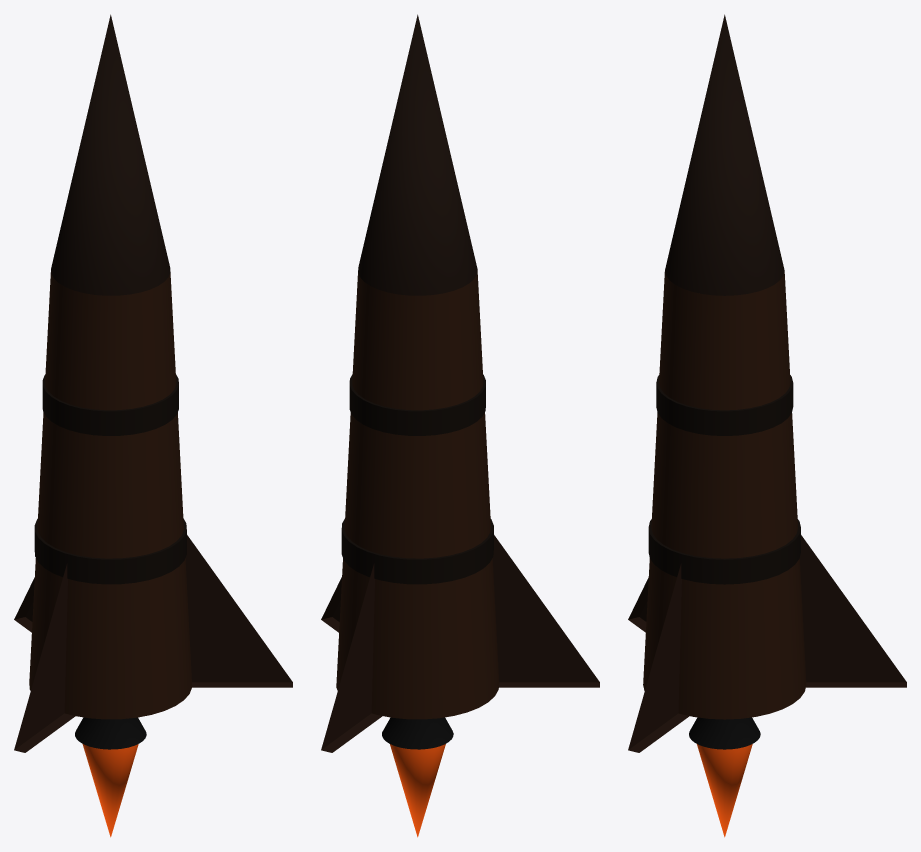
Rendered from Rocket_01_WoodenDart.obj.
The picture shows the model from 3 angles, left to right: view 1: azimuth 30°, elevation 25°; view 2: azimuth 150°, elevation 25°; view 3: azimuth 270°, elevation 25°; orthographic projection.
Visible parts, largest first — view 1: R01_Body, R01_Nose, R01_Fin_3, R01_Fin_2, R01_Band_1, R01_Band_2, R01_Flame_1, R01_Nozzle_1, R01_Fin_1; view 2: R01_Body, R01_Nose, R01_Fin_2, R01_Fin_1, R01_Band_1, R01_Band_2, R01_Flame_1, R01_Nozzle_1, R01_Fin_3; view 3: R01_Body, R01_Nose, R01_Fin_1, R01_Fin_3, R01_Band_1, R01_Band_2, R01_Flame_1, R01_Nozzle_1, R01_Fin_2.
Boxes of the visible parts, bbox=[...] form: R01_Body: bbox=[29, 271, 192, 719]; R01_Nose: bbox=[51, 14, 170, 295]; R01_Fin_3: bbox=[185, 535, 292, 687]; R01_Fin_2: bbox=[14, 563, 75, 752]; R01_Band_1: bbox=[34, 518, 186, 584]; R01_Band_2: bbox=[42, 374, 178, 435]; R01_Flame_1: bbox=[82, 744, 138, 837]; R01_Nozzle_1: bbox=[75, 717, 146, 749]; R01_Fin_1: bbox=[14, 578, 34, 632]; R01_Body: bbox=[336, 269, 499, 719]; R01_Nose: bbox=[358, 14, 477, 295]; R01_Fin_2: bbox=[492, 535, 599, 687]; R01_Fin_1: bbox=[321, 563, 382, 752]; R01_Band_1: bbox=[341, 519, 493, 584]; R01_Band_2: bbox=[349, 374, 485, 435]; R01_Flame_1: bbox=[390, 744, 445, 837]; R01_Nozzle_1: bbox=[382, 717, 453, 749]; R01_Fin_3: bbox=[321, 577, 341, 632]; R01_Body: bbox=[643, 271, 806, 719]; R01_Nose: bbox=[665, 14, 784, 295]; R01_Fin_1: bbox=[799, 535, 906, 687]; R01_Fin_3: bbox=[628, 563, 689, 752]; R01_Band_1: bbox=[648, 519, 800, 584]; R01_Band_2: bbox=[656, 375, 793, 435]; R01_Flame_1: bbox=[697, 744, 752, 837]; R01_Nozzle_1: bbox=[689, 717, 760, 749]; R01_Fin_2: bbox=[628, 578, 648, 632].
Size of the model in its own units: 2.96 by 8.35 by 2.56.
